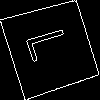L: (25, 23, 80, 64)
